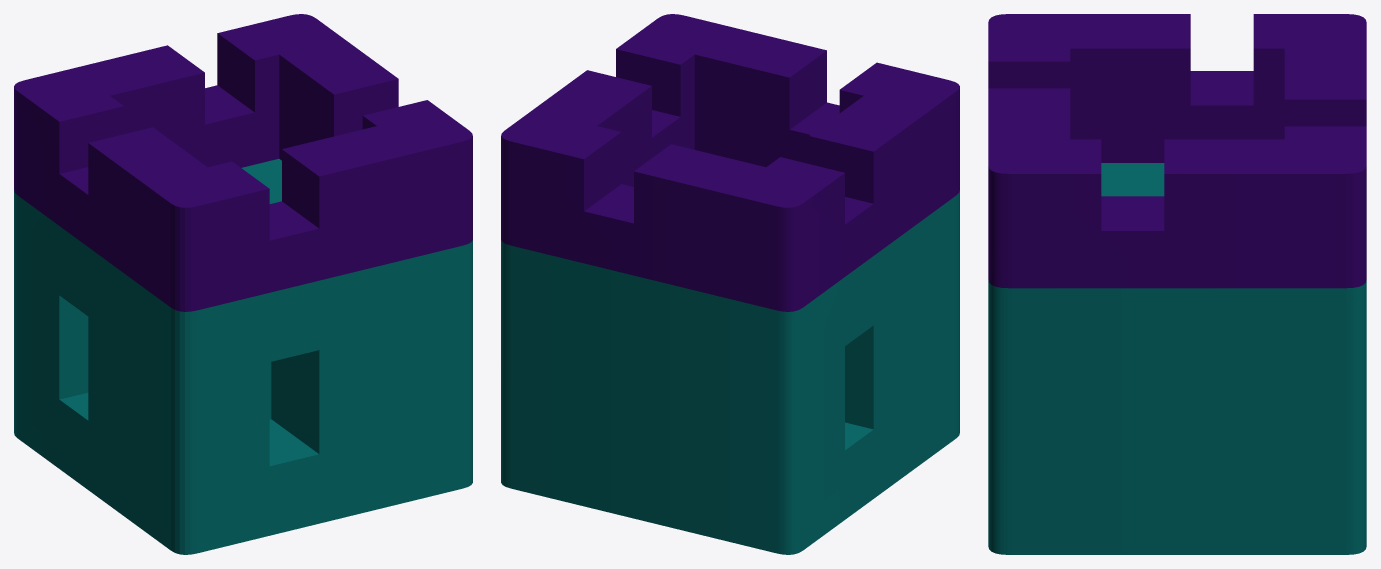
File: Roof_00_X_L.fbx
3 views of the same model, side by side, from view 1: azimuth 30°, elevation 25°; view 2: azimuth 150°, elevation 25°; view 3: azimuth 270°, elevation 25° (orthographic). The views are drawn at different scales.
Visible parts, largest first — view 1: 3, 1, 4, 2; view 2: 4, 2, 3, 1; view 3: 2, 1, 3, 4.
Boxes of the visible parts, x1=… form: 3: x1=94, y1=131, x2=329, y2=554; 1: x1=293, y1=74, x2=472, y2=520; 4: x1=14, y1=48, x2=194, y2=493; 2: x1=157, y1=14, x2=392, y2=203; 4: x1=644, y1=131, x2=879, y2=554; 2: x1=501, y1=74, x2=680, y2=520; 3: x1=779, y1=48, x2=959, y2=493; 1: x1=581, y1=14, x2=816, y2=166; 2: x1=1177, y1=94, x2=1366, y2=554; 1: x1=988, y1=94, x2=1177, y2=554; 3: x1=988, y1=14, x2=1177, y2=196; 4: x1=1177, y1=14, x2=1366, y2=139.
Bounding box in the file's own units: 180 × 200 × 180.
